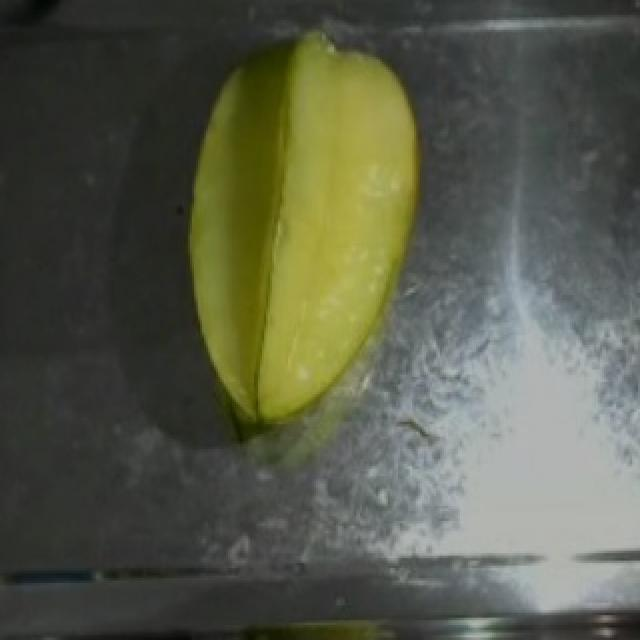fruit: (168, 18, 446, 424)
